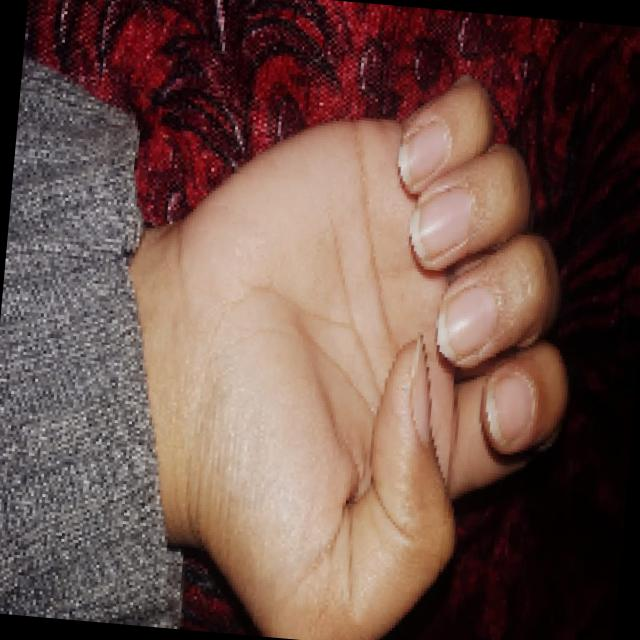Nail: (410, 187, 474, 262), (436, 287, 496, 363), (482, 369, 535, 450), (397, 119, 451, 186), (408, 342, 429, 443)
